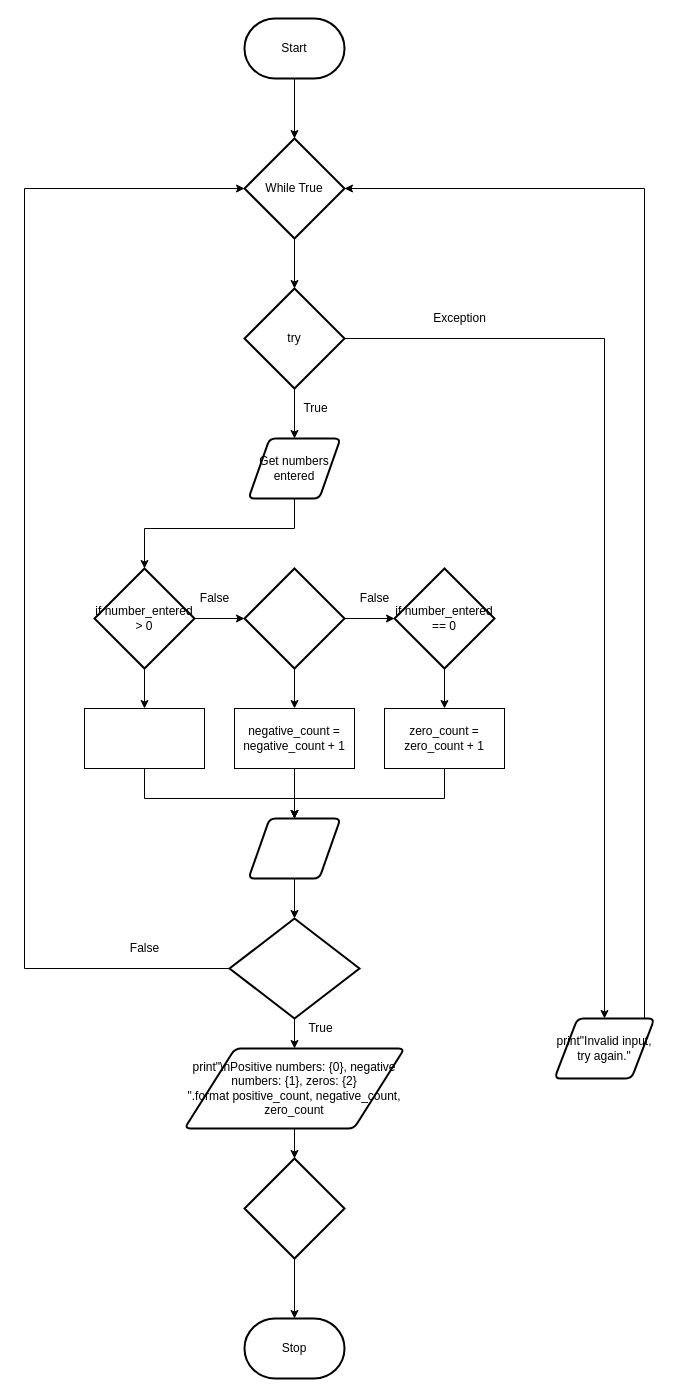
The diagram is 673 pixels wide and 1396 high, and some of its shapes have lost their labels. The box of each missing label's shape, as (x1, y1, x2, y2) in pixels:
break: (243, 1157, 345, 1259)
Get user end: (247, 817, 341, 879)
if number_entered < 0: (243, 567, 345, 669)
if user_end == Y or user_end == y: (228, 917, 360, 1019)
positive_count = positive_count + 1: (84, 708, 204, 768)
